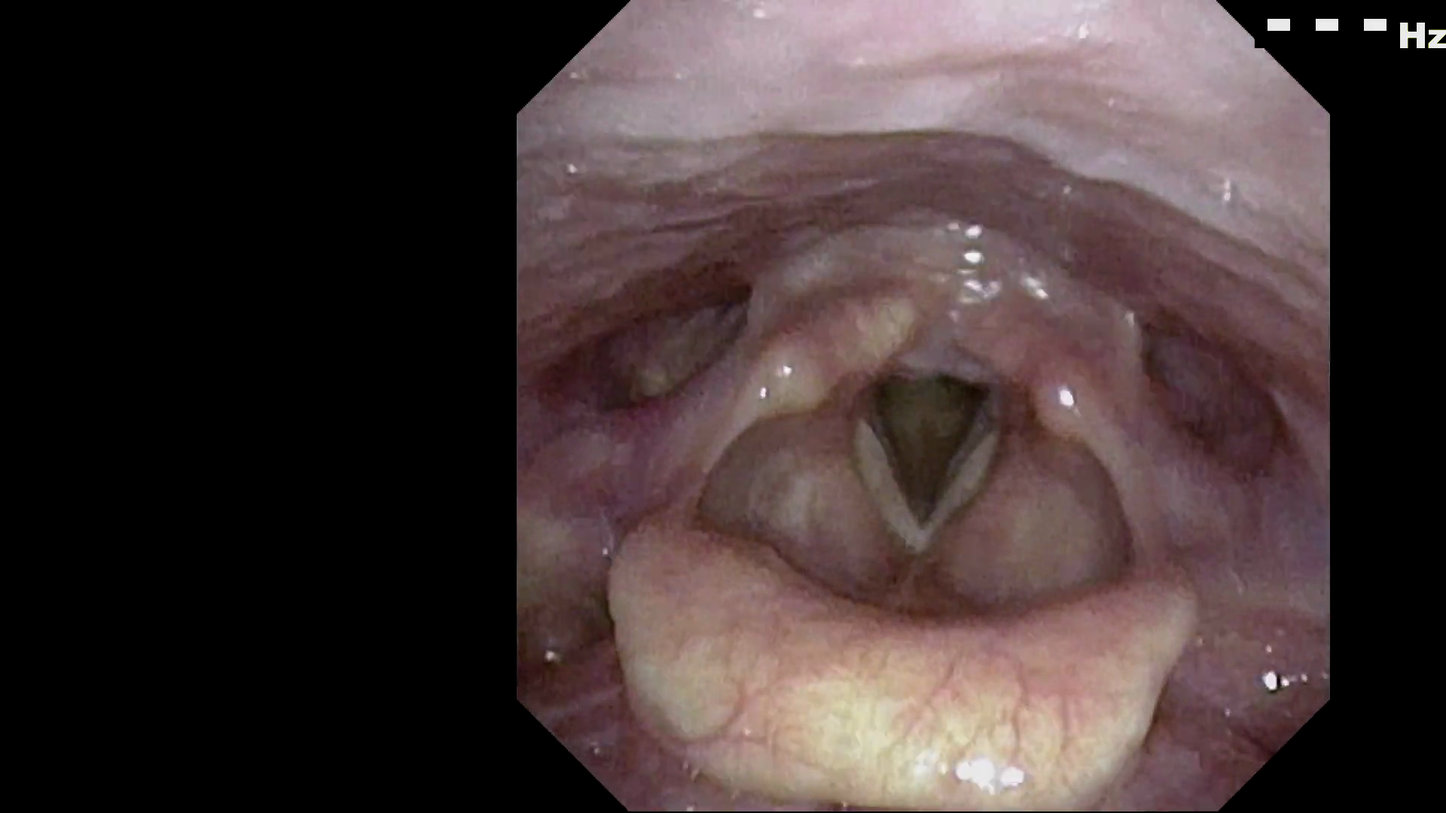epiglottis: (610, 503, 1212, 775)
trachea: (848, 330, 1026, 555)
